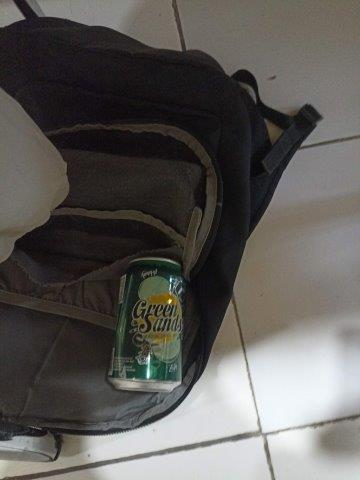kaleng: (106, 256, 183, 392)
